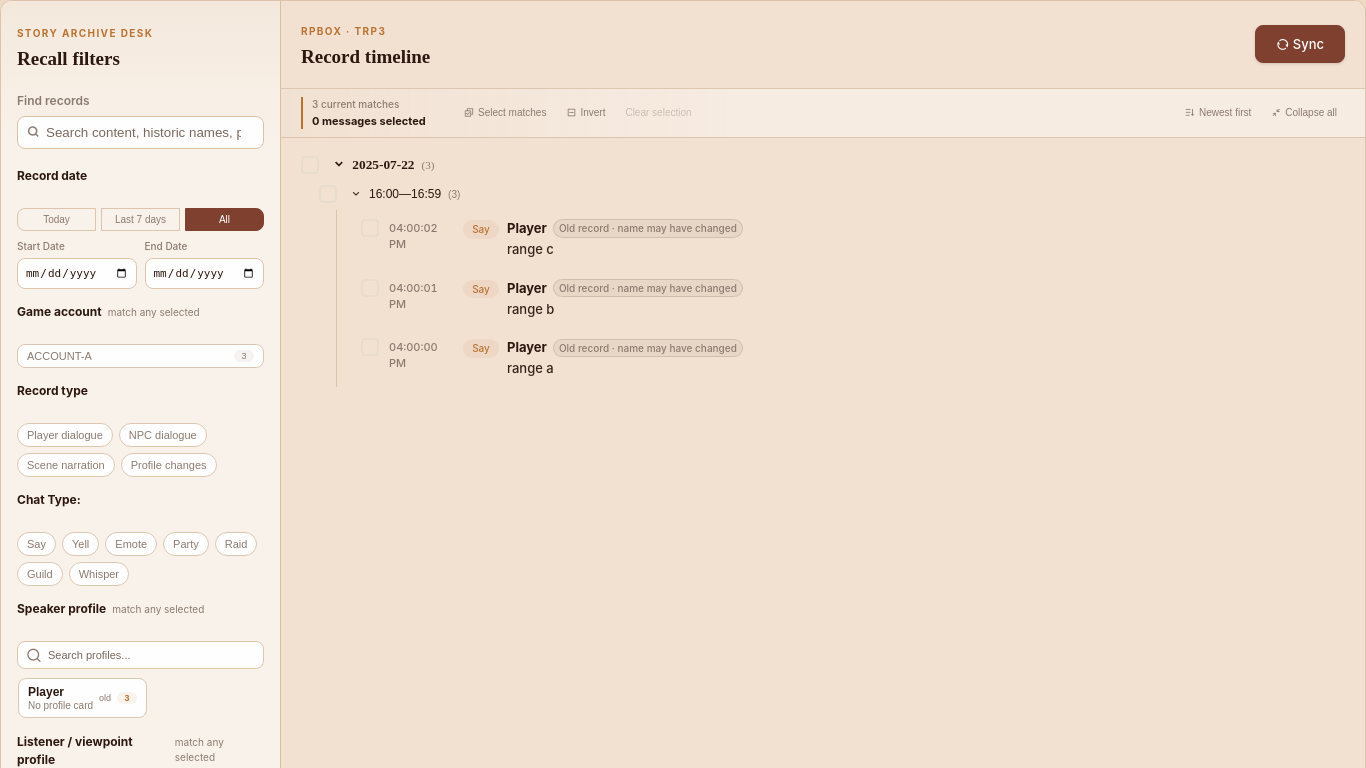
Test: StagingPool › selects a contiguous visible range with shift click
Click the checkbox with class "record-item" that starts with "04:00:02 PM" at {"x": 552, "y": 238}, box [361,219,743,257]
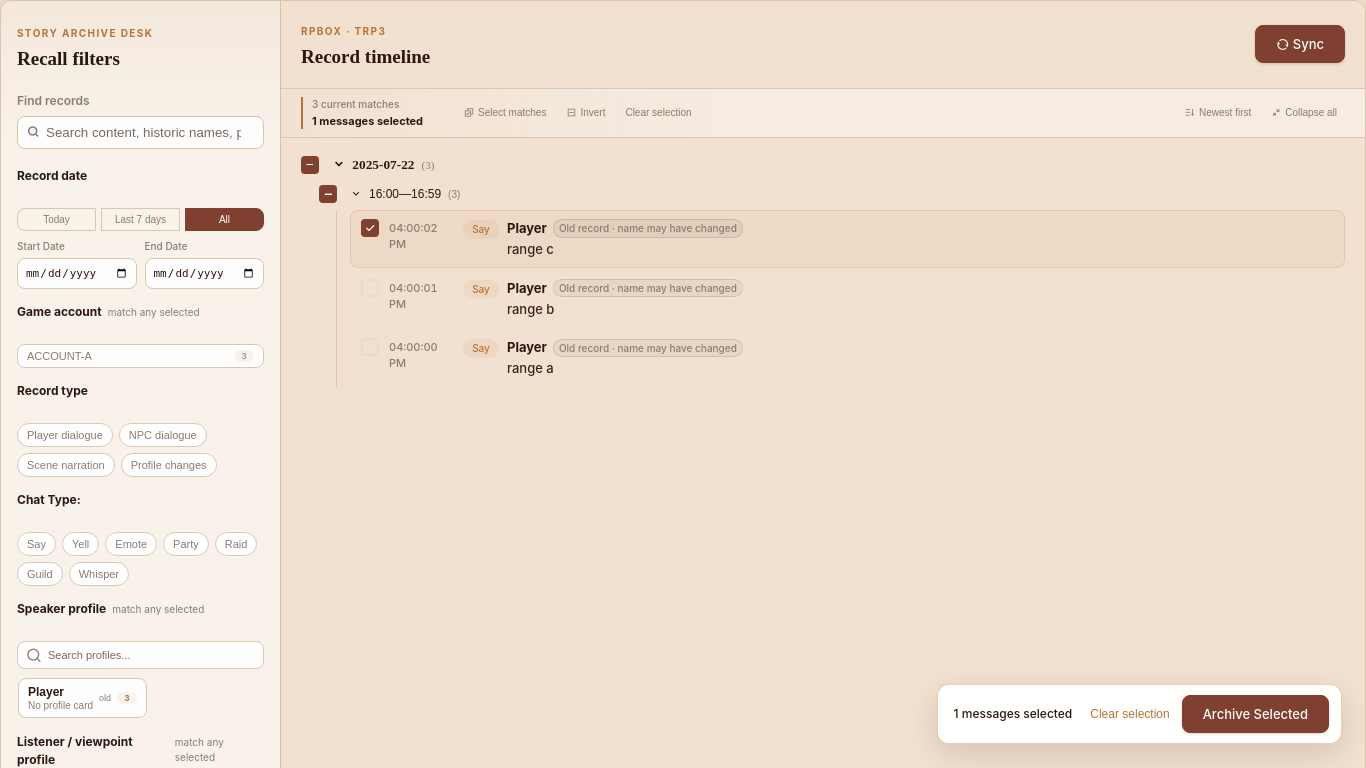
Click the checkbox with class "record-item" that starts with "04:00:00 PM" at {"x": 552, "y": 357}, box [361,338,743,376]
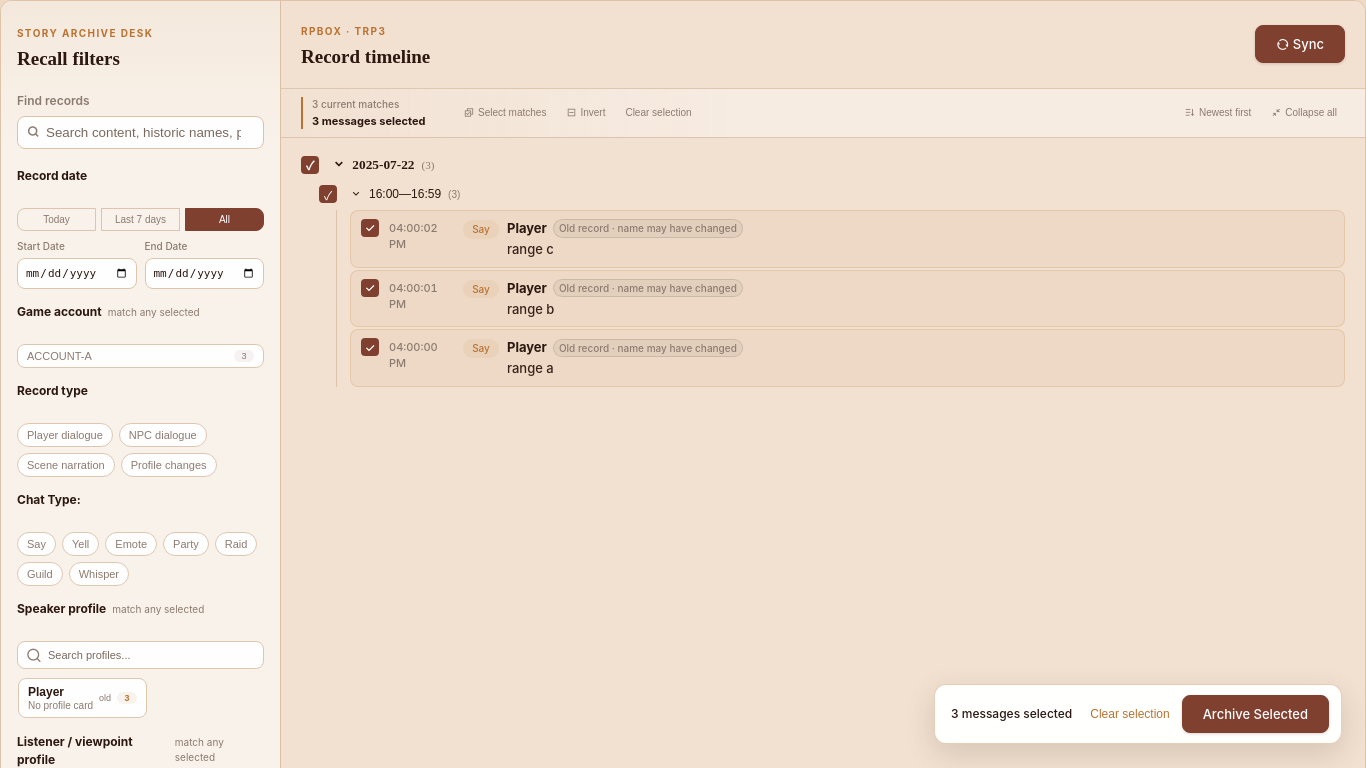
Check: the number of checkboxes with class "selected" is 3, box [350,210,1345,268]; [350,270,1345,327]; [350,329,1345,387]
Check: the footer with class "staging-footer" shows "3", box [951,706,1072,721]
